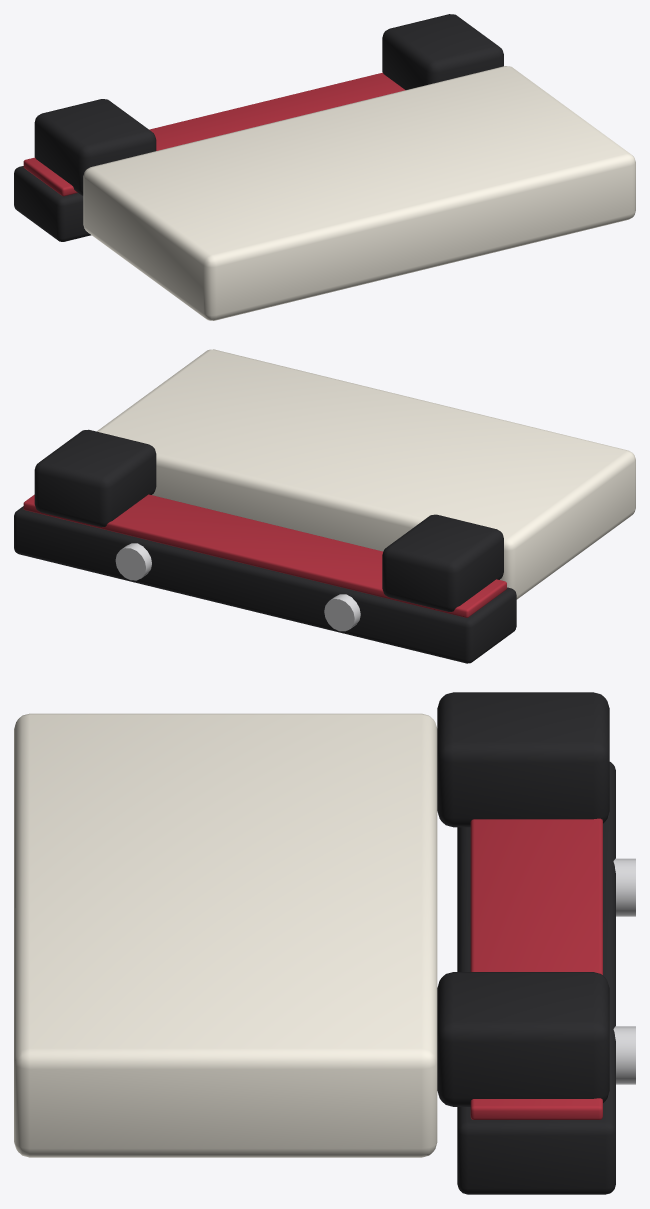
Rendered from model_white.glb.
The picture shows the model from 3 angles, top to bottom: view 1: azimuth 30°, elevation 25°; view 2: azimuth 150°, elevation 25°; view 3: azimuth 270°, elevation 25°; orthographic projection. The views are drawn at different scales.
Parts seen in each view (by area): view 1: piano_v5_white; view 2: piano_v5_white; view 3: piano_v5_white.
Boxes of the visible parts, box(x1,y1,x2,y2) form: piano_v5_white: box(14, 14, 635, 320); piano_v5_white: box(14, 349, 635, 663); piano_v5_white: box(14, 692, 635, 1194).
Size of the model in its own units: 0.66 by 0.13 by 0.47.
